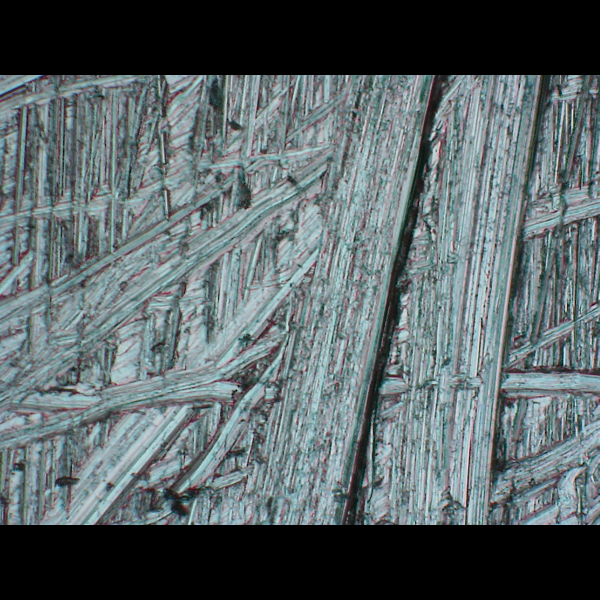d: (0, 77, 599, 524)
